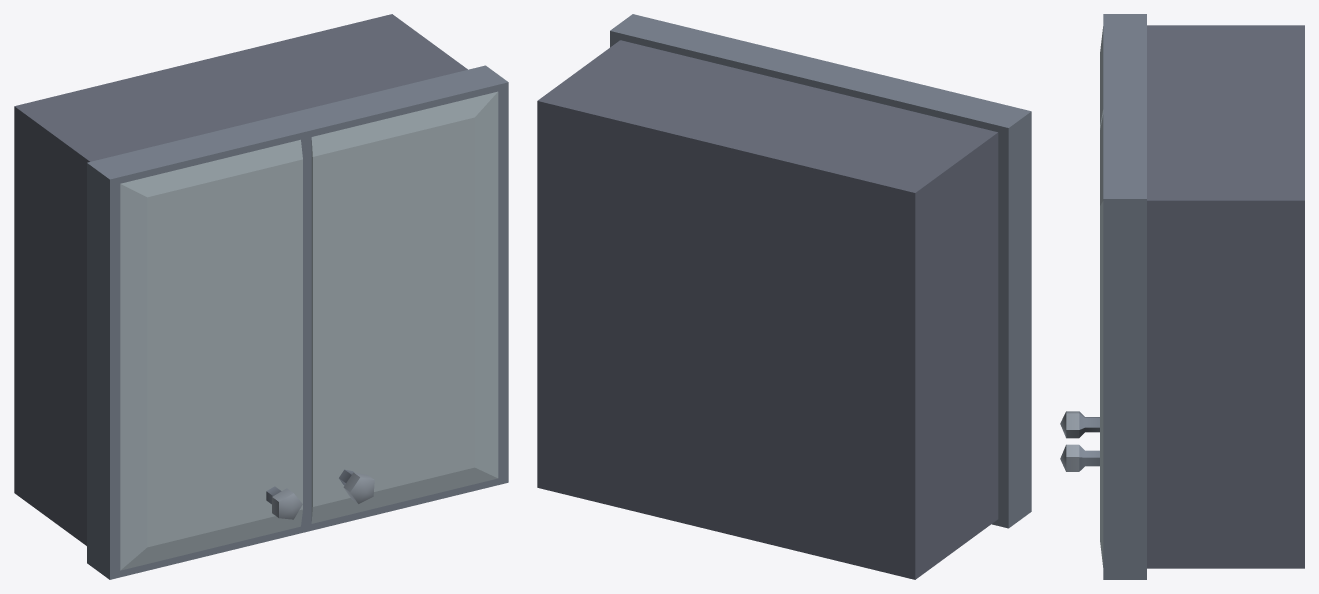
File: cabinet.fbx
3 views of the same model, side by side, from view 1: azimuth 30°, elevation 25°; view 2: azimuth 150°, elevation 25°; view 3: azimuth 270°, elevation 25° (orthographic). The views are drawn at different scales.
Visible parts, largest first — view 1: cabnit; view 2: cabnit; view 3: cabnit.
Boxes of the visible parts, x1,y1,x2,y2 form: cabnit: (14,14,508,579); cabnit: (537,14,1031,579); cabnit: (1060,14,1304,579).
Bounding box in the file's own units: 1.28 × 1.23 × 0.7153.
